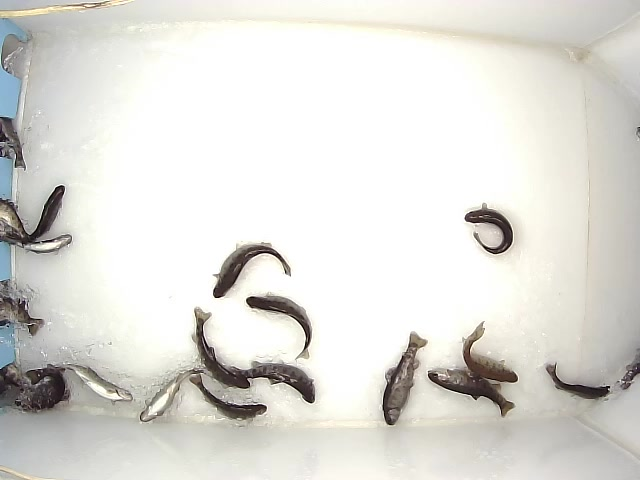fish: (190, 306, 252, 390), (211, 241, 293, 299), (245, 291, 312, 361), (427, 368, 516, 419), (382, 330, 428, 426), (227, 358, 316, 404), (189, 372, 267, 421), (139, 367, 207, 423), (46, 363, 133, 406), (460, 320, 518, 384), (4, 184, 65, 244), (544, 361, 612, 402), (14, 363, 69, 412), (464, 202, 514, 255), (2, 234, 74, 256)
